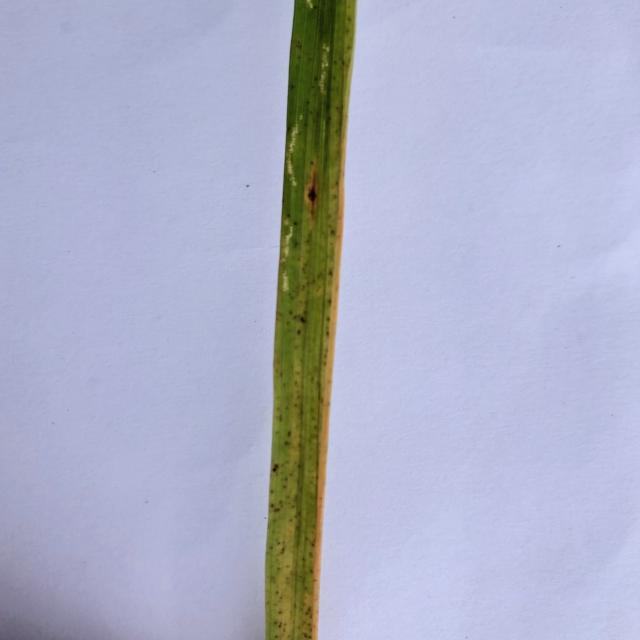tungro: (306, 71, 353, 640)
